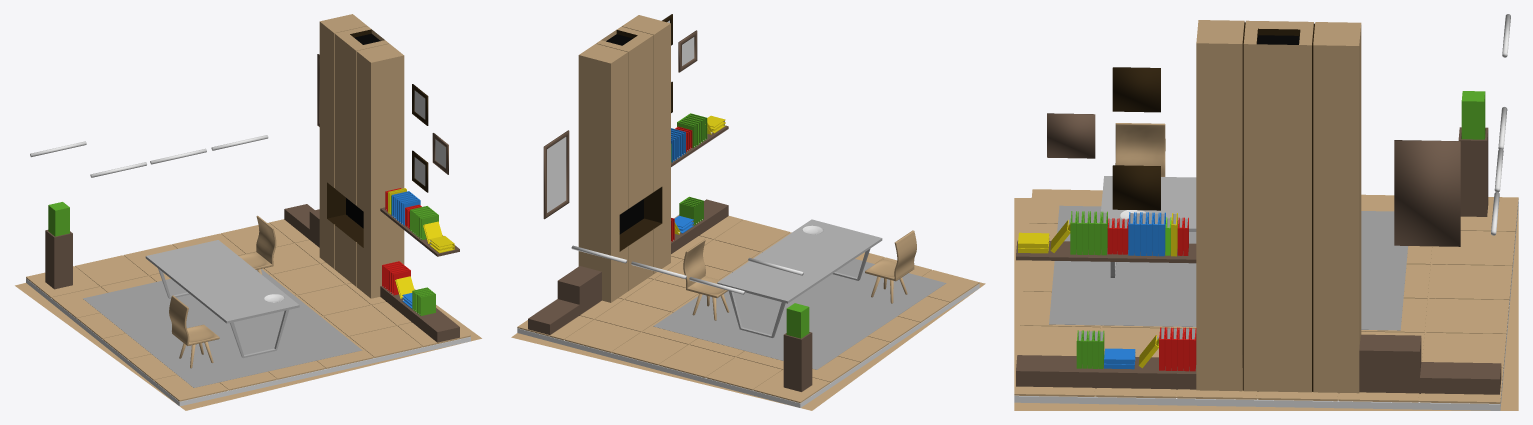
3 views of the same model, side by side, from view 1: azimuth 30°, elevation 25°; view 2: azimuth 150°, elevation 25°; view 3: azimuth 270°, elevation 25° (orthographic). The views are drawn at different scales.
Visible parts, largest first — view 1: Cube.093, Cube.070, Plane.003, Cube.085, Cube.094, nl_floor, Cube.083, Cube.092, Cylinder.010, Cube.069, Cylinder.009, Cylinder.007 (+7 smaller); view 2: Cube.093, Cube.070, Plane.003, Cube.085, Cube.090, Cube.094, nl_floor, Cube.083, Cylinder.010, Cylinder.009, Cube.061, Cube.069 (+8 smaller); view 3: Cube.093, Cube.070, Plane.003, Cube.086, Cube.090, nl_floor, Cube.092, Cube.094, Cube.083, Cube.085, Cylinder.010, Cube.088 (+13 smaller).
Part boxes in pixels (bbox=[...]): Cube.093: bbox=[319, 14, 404, 298]; Cube.070: bbox=[26, 219, 470, 401]; Plane.003: bbox=[83, 269, 362, 387]; Cube.085: bbox=[145, 240, 299, 358]; Cube.094: bbox=[26, 278, 470, 406]; nl_floor: bbox=[15, 283, 481, 410]; Cube.083: bbox=[45, 230, 72, 289]; Cube.092: bbox=[380, 286, 459, 342]; Cylinder.010: bbox=[169, 295, 219, 368]; Cube.069: bbox=[327, 182, 363, 247]; Cylinder.009: bbox=[239, 215, 276, 274]; Cylinder.007: bbox=[30, 135, 268, 177]; Cube.093: bbox=[578, 15, 670, 302]; Cube.070: bbox=[517, 216, 979, 403]; Plane.003: bbox=[653, 259, 946, 369]; Cube.085: bbox=[717, 219, 882, 337]; Cube.090: bbox=[528, 266, 601, 334]; Cube.094: bbox=[517, 284, 979, 407]; nl_floor: bbox=[511, 214, 985, 410]; Cube.083: bbox=[783, 332, 812, 391]; Cylinder.010: bbox=[865, 230, 916, 303]; Cylinder.009: bbox=[683, 239, 729, 320]; Cube.061: bbox=[547, 137, 566, 212]; Cube.069: bbox=[619, 187, 662, 251]; Cube.093: bbox=[1196, 20, 1361, 393]; Cube.070: bbox=[1014, 189, 1518, 403]; Plane.003: bbox=[1049, 205, 1407, 330]; Cube.086: bbox=[1394, 140, 1460, 246]; Cube.090: bbox=[1359, 334, 1501, 394]; nl_floor: bbox=[1014, 198, 1518, 410]; Cube.092: bbox=[1016, 355, 1196, 389]; Cube.094: bbox=[1014, 200, 1518, 410]; Cube.083: bbox=[1458, 127, 1488, 216]; Cube.085: bbox=[1101, 176, 1196, 277]; Cylinder.010: bbox=[1115, 123, 1165, 176]; Cube.088: bbox=[1047, 113, 1095, 158].
Size of the model in its own units: 10 by 7.79 by 10.
